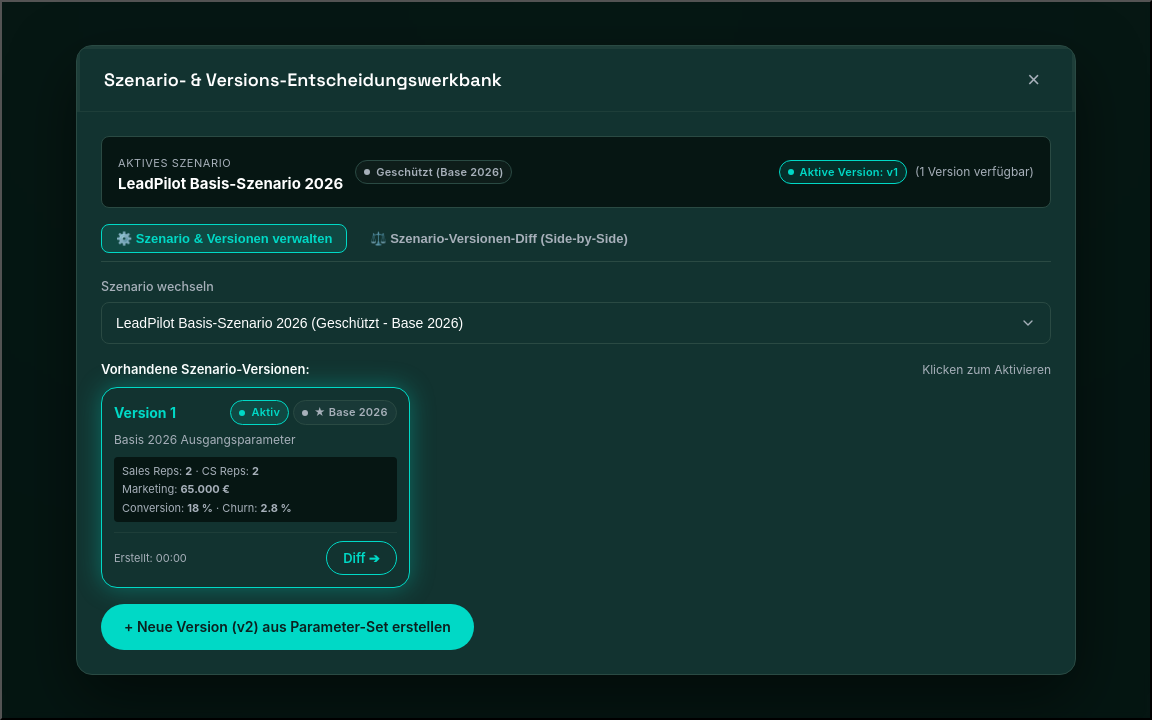
ScenarioManagerModal (branch3) › ohne zweite Version kein Versions-Badge, Diff-Button öffnet Diff mit gesetzter Version
Expected: the text "Szenario wechseln" is shown, [101,279,214,294]
Click the button "Diff ➔" at (361, 558), box [326,541,397,575]
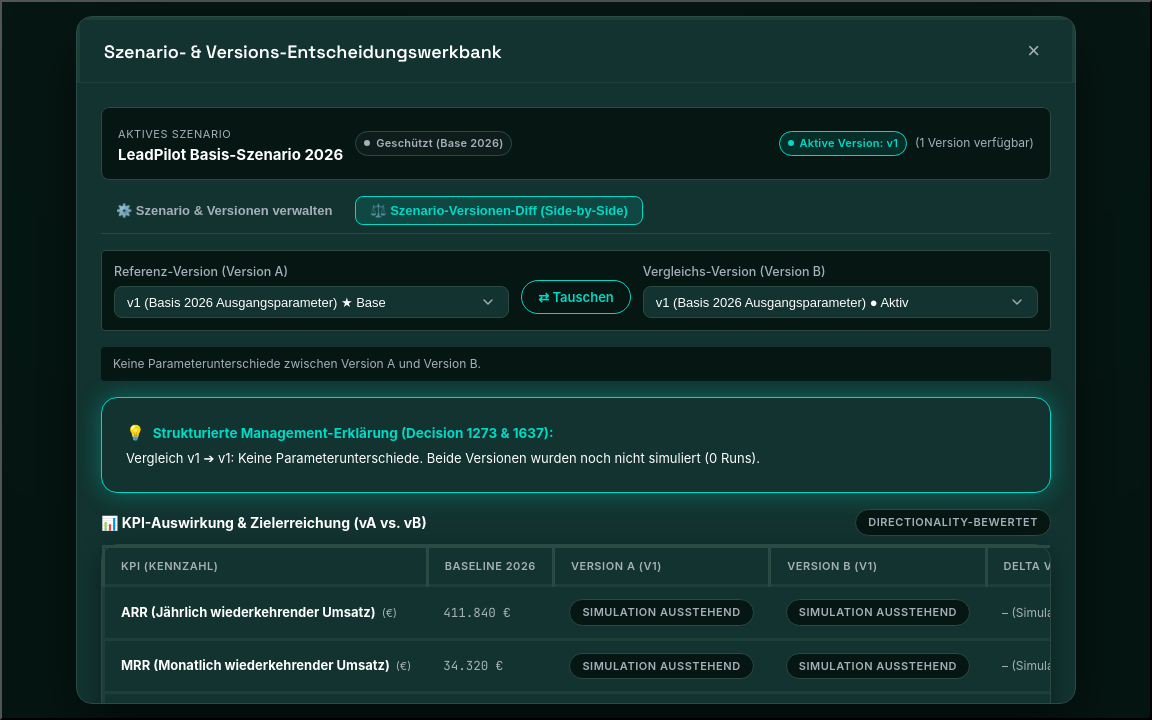
Expected: the text "Referenz-Version (Version A)" is shown, [114,264,288,278]
Expected: the text "Szenario wechseln" is gone
